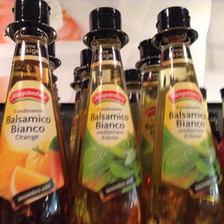vinegar: (70, 7, 147, 224), (152, 7, 224, 223), (2, 1, 66, 224)
